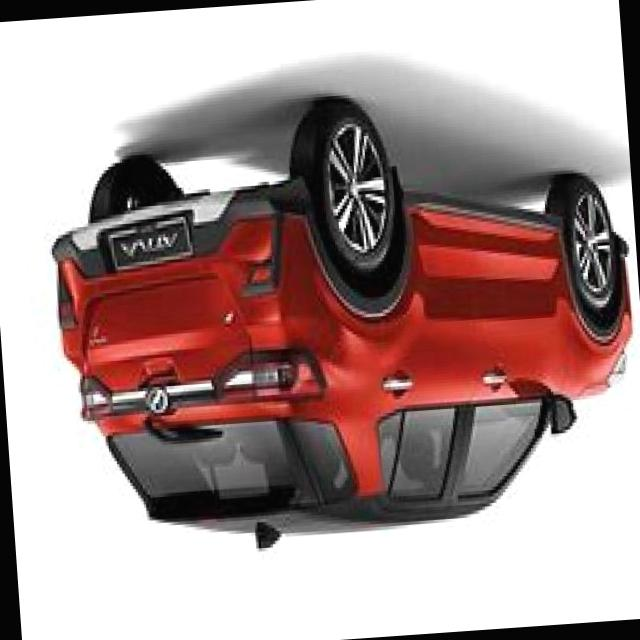PeroduaAtiva: (42, 75, 640, 567)
